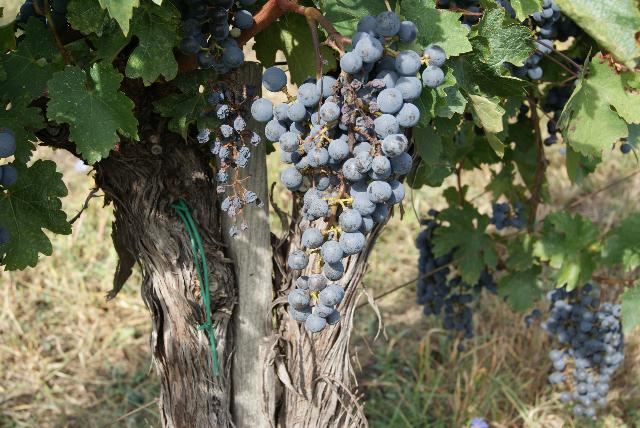grapes: (251, 10, 446, 332)
